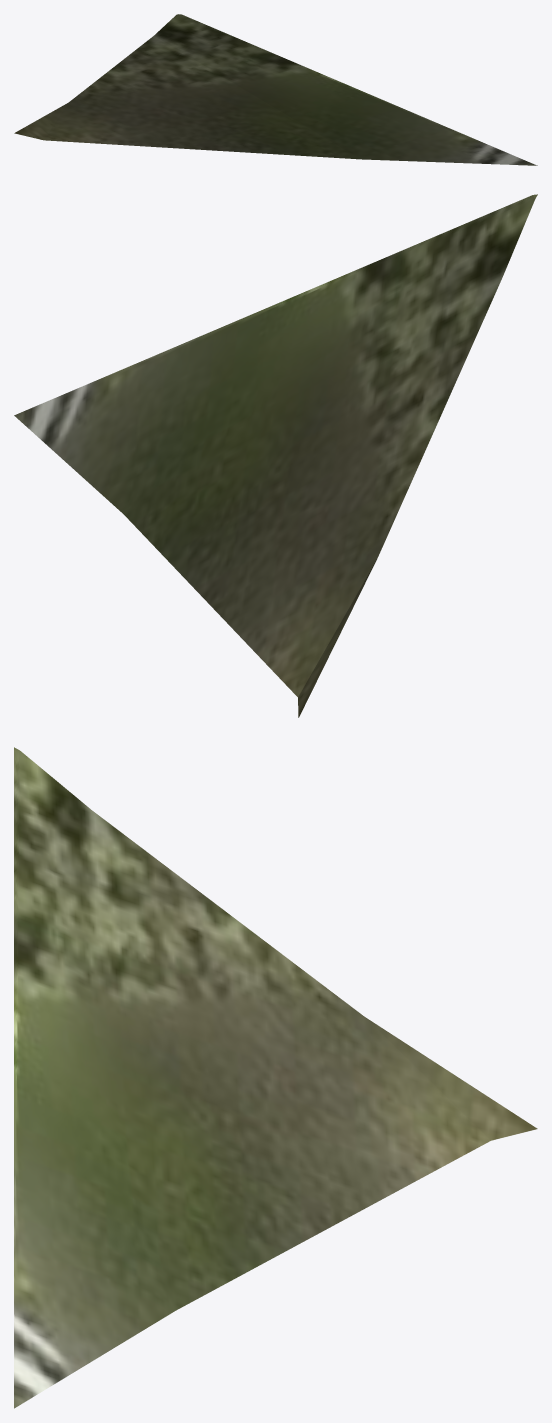
3 renders of one model, top to bottom at view 1: azimuth 30°, elevation 25°; view 2: azimuth 150°, elevation 25°; view 3: azimuth 270°, elevation 25°, orthographic. The views are drawn at different scales.
Size of the model in its own units: 1.78 by 1.13 by 1.41.
Materials: 1 (1 with a texture image).
